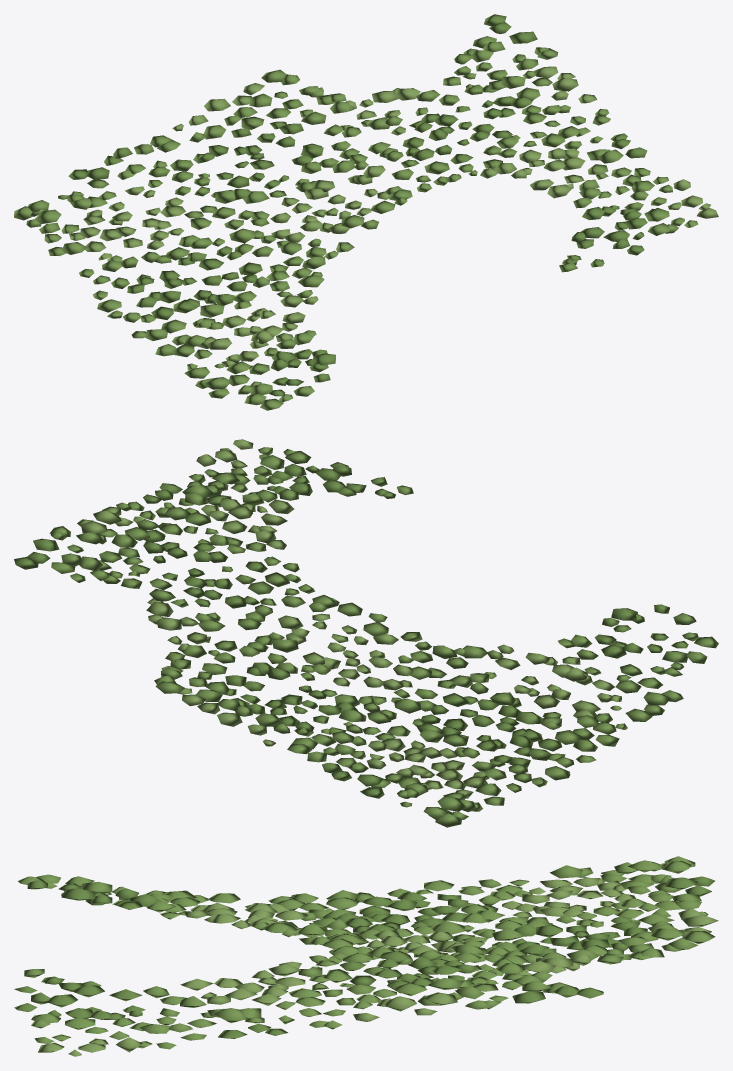
The model's file is canopy-1-5-1.glb.
3 views of the same model, one above another, from view 1: azimuth 30°, elevation 25°; view 2: azimuth 150°, elevation 25°; view 3: azimuth 270°, elevation 25° (orthographic). The views are drawn at different scales.
Bounding box in the file's own units: 520 × 158 × 520.
1 material, 1 textured.
